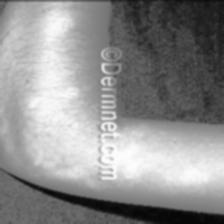Non-Cancerous Skin Condition: (164, 162, 217, 194)
